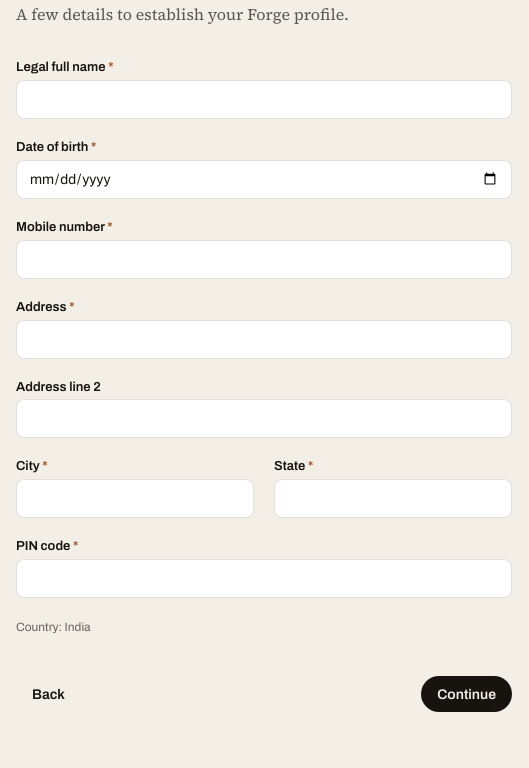
Test: PersonalStep › validates required fields before save
(page scrolled)
What coordinates should you click on to do the following:
click the button "Continue"
I would click on:
 (467, 694)
Its box is x1=421 y1=676 x2=512 y2=712.
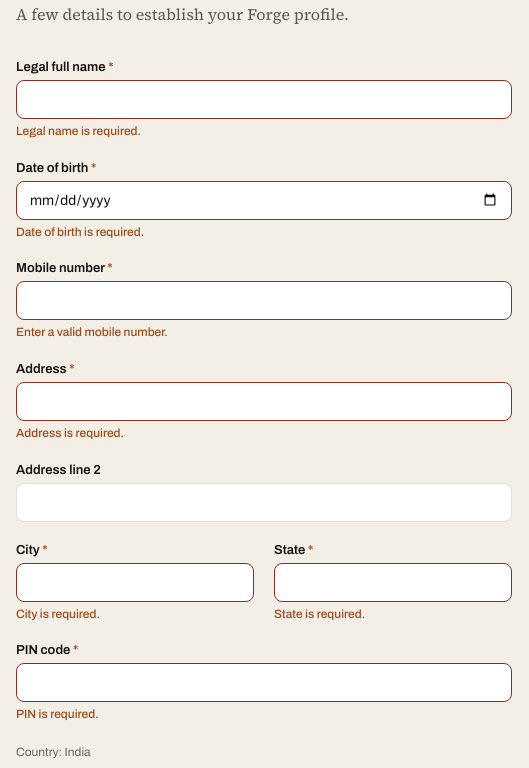
Check: the text "Legal name is required." is shown, box x1=16 y1=124 x2=141 y2=138
